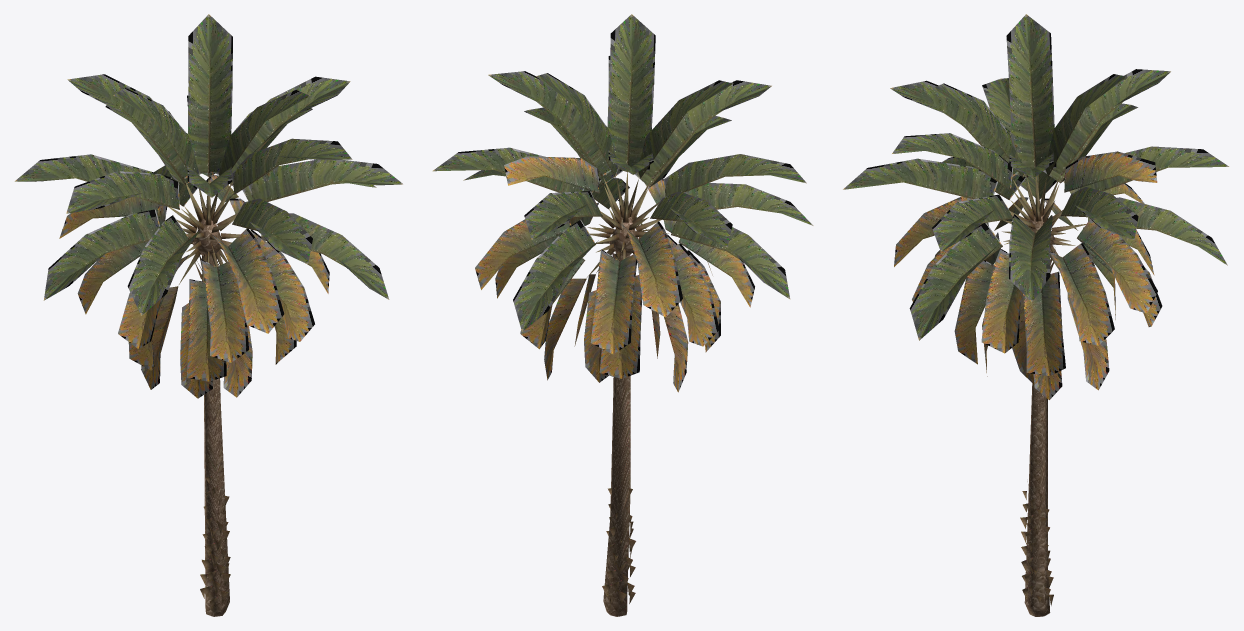
File: arid-palm-tall-a-mid.glb
3 renders of one model, left to right at view 1: azimuth 30°, elevation 25°; view 2: azimuth 150°, elevation 25°; view 3: azimuth 270°, elevation 25°, orthographic.
Parts seen in each view (by area): view 1: palm_tree_tall_a_LOD0; view 2: palm_tree_tall_a_LOD0; view 3: palm_tree_tall_a_LOD0.
Part boxes in pixels (x1,y1,x2,y2): palm_tree_tall_a_LOD0: (14,14,402,616); palm_tree_tall_a_LOD0: (432,14,813,616); palm_tree_tall_a_LOD0: (843,14,1229,616).
Size of the model in its own units: 16.88 by 27.43 by 17.24.
Materials: 1 (1 with a texture image).
